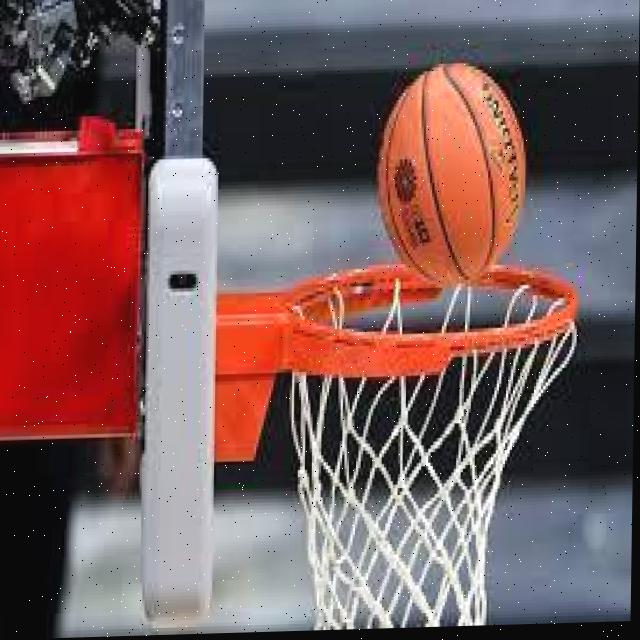basketball: (377, 61, 527, 283)
hoop: (282, 259, 578, 631)
